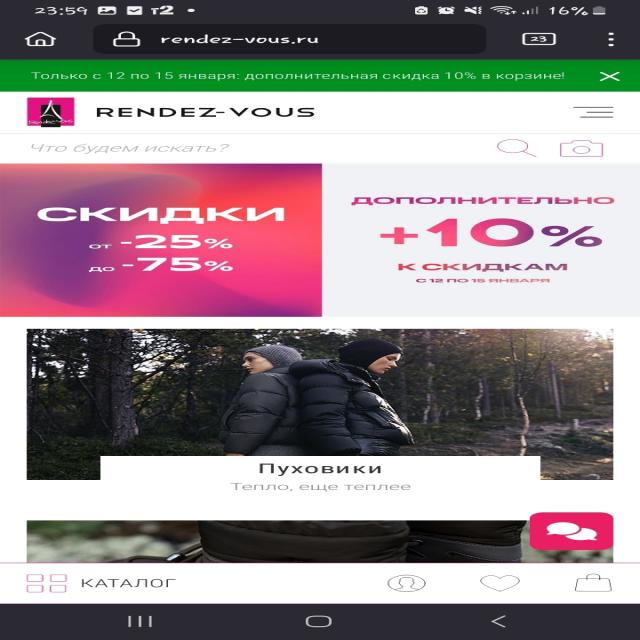button: (598, 68, 622, 85)
site: (0, 60, 640, 93)
